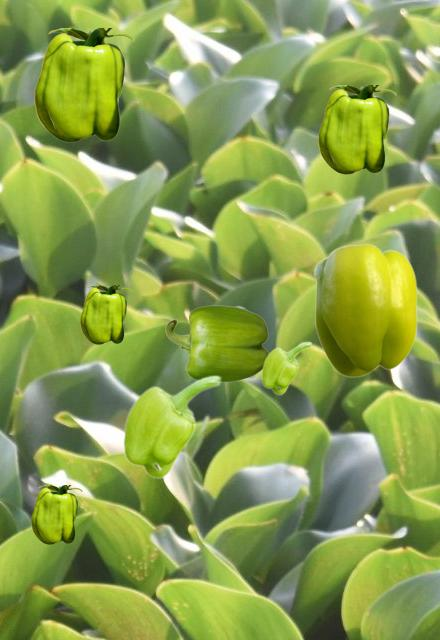bell_pepper: (313, 243, 416, 376), (34, 28, 133, 141), (122, 374, 221, 478), (165, 305, 268, 381), (318, 85, 395, 173), (31, 485, 81, 543), (80, 285, 130, 343), (261, 341, 311, 394)
